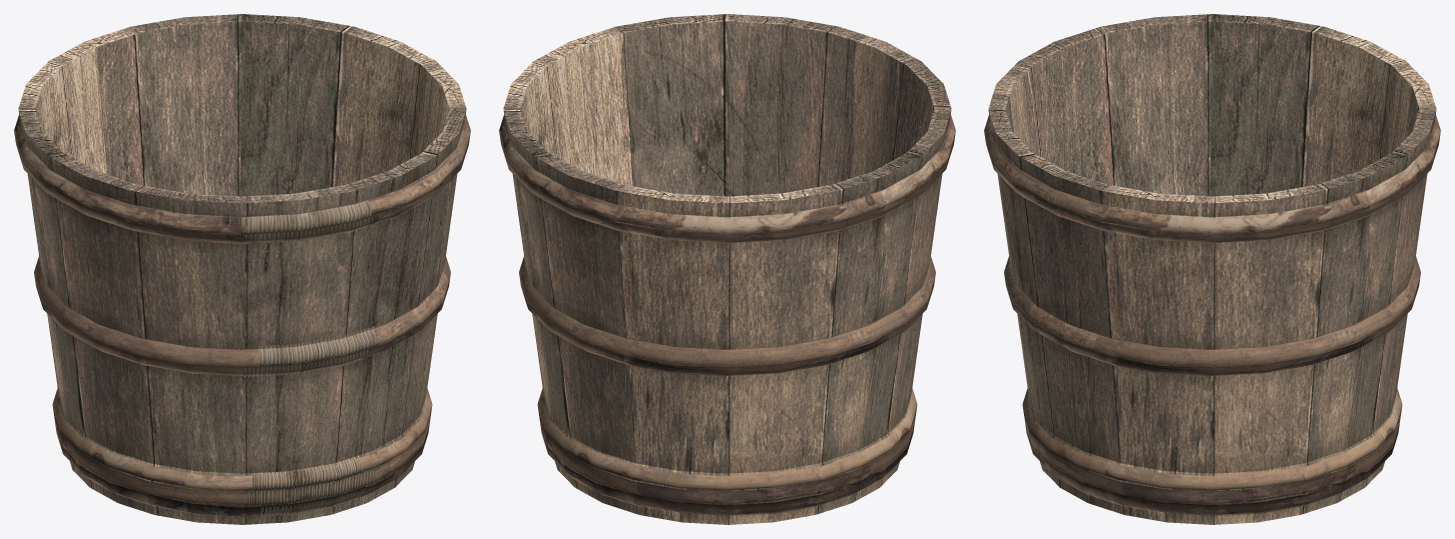
File: tub_tall_wide.fbx
3 views of the same model, side by side, from view 1: azimuth 30°, elevation 25°; view 2: azimuth 150°, elevation 25°; view 3: azimuth 270°, elevation 25° (orthographic).
Parts seen in each view (by area): view 1: tub_tall_wide; view 2: tub_tall_wide; view 3: tub_tall_wide.
Boxes of the visible parts, x1,y1,x2,y2 form: tub_tall_wide: (14, 14, 470, 524); tub_tall_wide: (499, 14, 955, 524); tub_tall_wide: (984, 14, 1440, 524).
Bounding box in the file's own units: 90.83 × 75 × 90.83.
